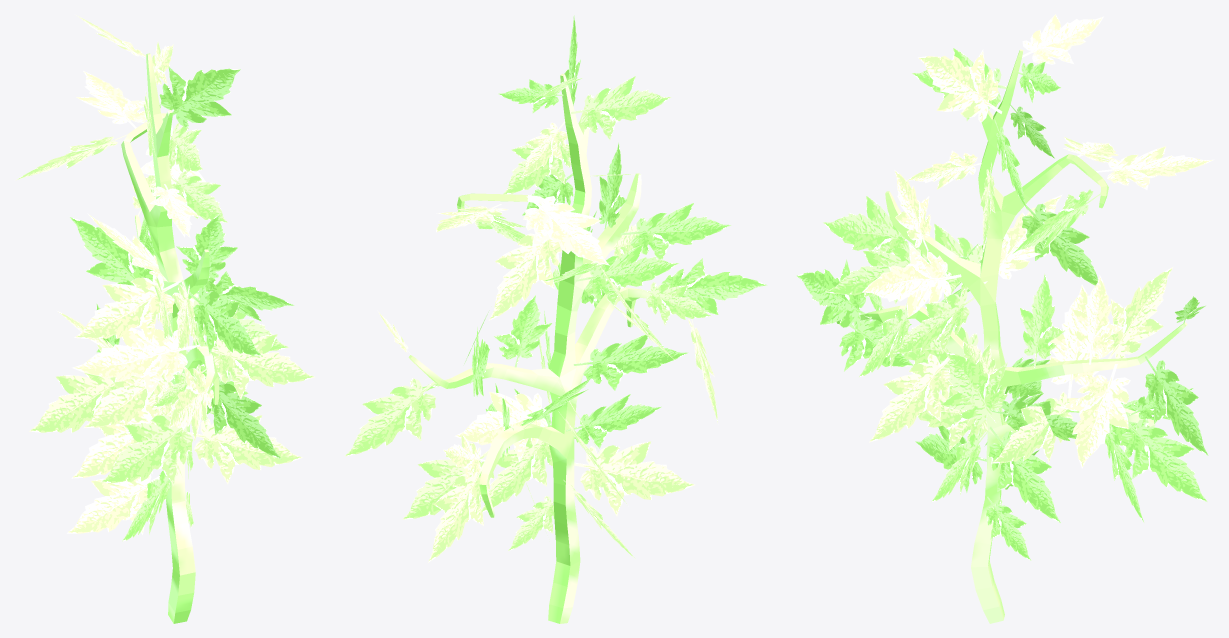
Rendered from testcrop2.gltf.
3 renders of one model, left to right at view 1: azimuth 30°, elevation 25°; view 2: azimuth 150°, elevation 25°; view 3: azimuth 270°, elevation 25°, orthographic.
Visible parts, largest first — view 1: solanaceae; view 2: solanaceae; view 3: solanaceae.
Part boxes in pixels (x1=…): solanaceae: x1=15, y1=15, x2=315, y2=623; solanaceae: x1=345, y1=15, x2=767, y2=623; solanaceae: x1=796, y1=14, x2=1214, y2=623.
Size of the model in its own units: 1.18 by 2.61 by 1.7.
